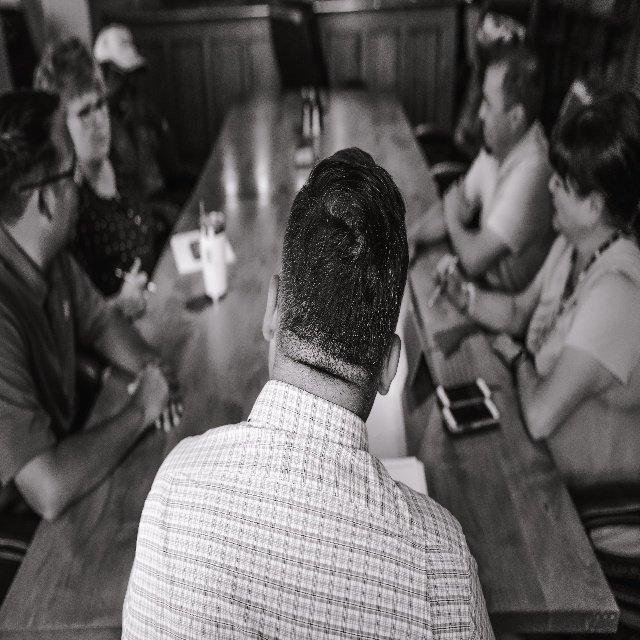Gafas: (17, 162, 82, 202), (78, 90, 111, 128)
Sin_guantes: (126, 358, 182, 430), (136, 356, 179, 428), (432, 250, 469, 313), (120, 257, 147, 320), (442, 175, 472, 226), (494, 336, 524, 373)
